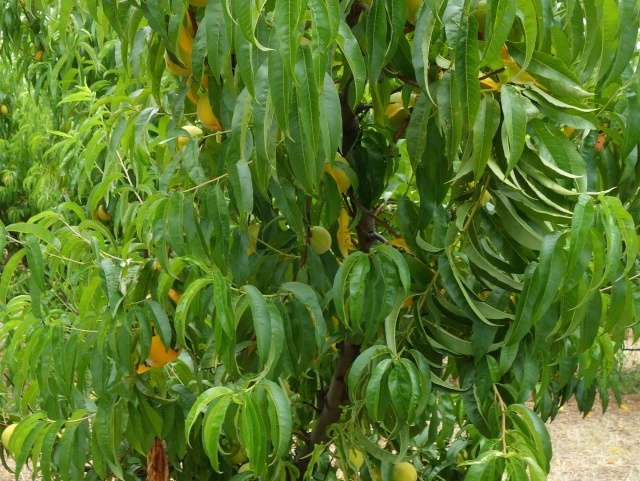peach: (140, 330, 184, 366), (190, 87, 222, 136), (304, 223, 336, 258), (390, 462, 420, 481)
